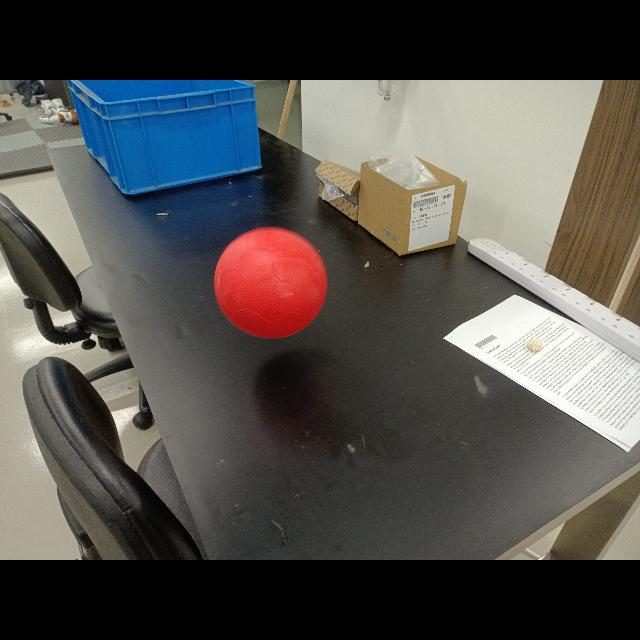R: (215, 228, 328, 340)
